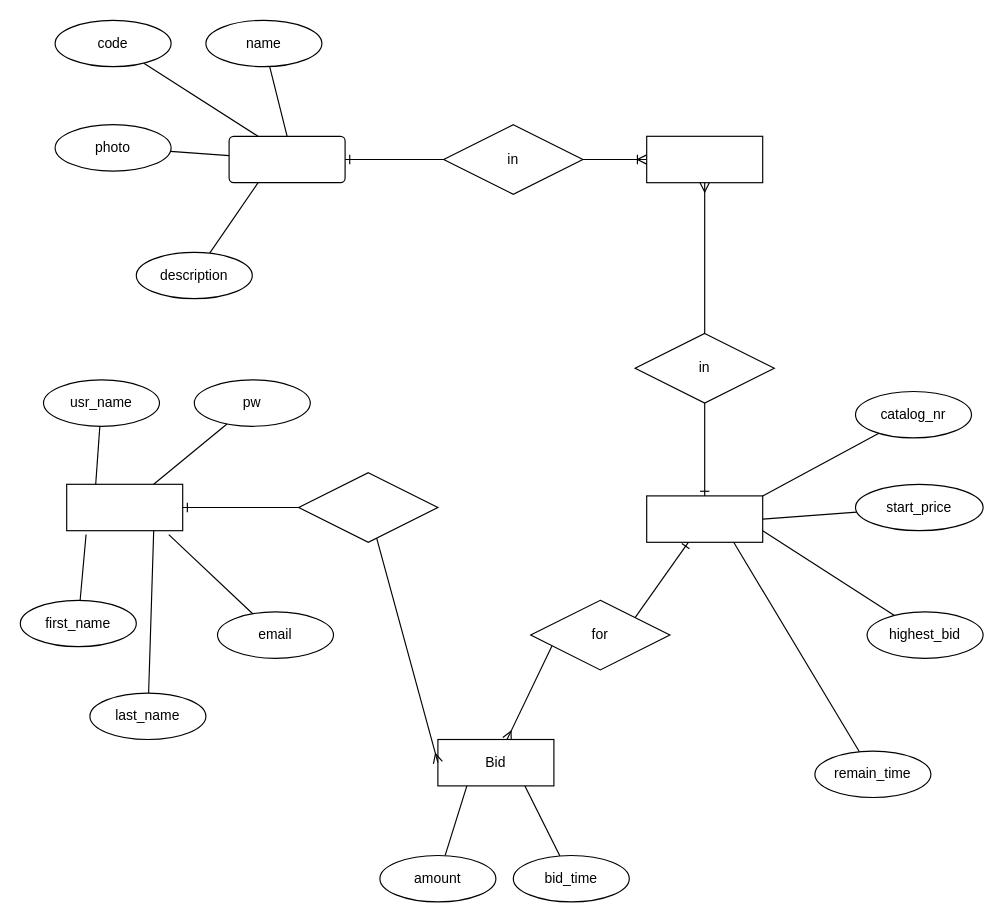
The diagram is 1003 pixels wide and 922 high, and some of its shapes have lost their labels. The centre of each missing label's shape, as x and y in pixels:
Customer: (124,507)
make: (368,507)
Product: (286,159)
Product_Set: (704,159)
Set: (704,518)
